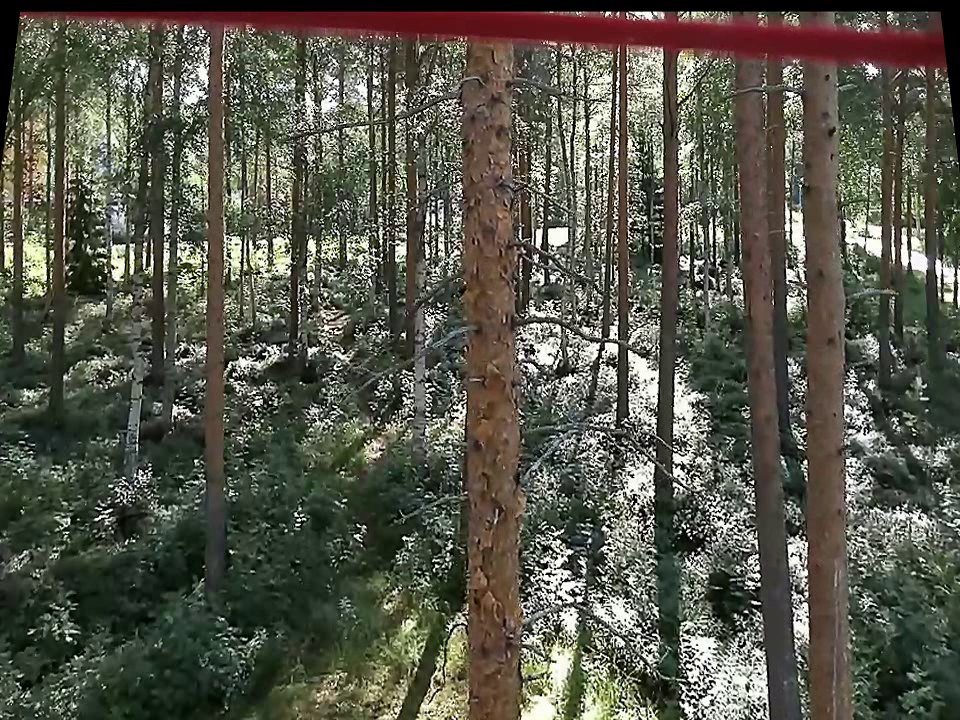branch: (521, 413, 700, 493), (520, 594, 684, 680), (291, 83, 457, 142), (352, 322, 469, 393), (516, 305, 656, 361), (508, 233, 600, 291), (515, 167, 578, 217), (717, 82, 809, 105), (842, 278, 905, 309)
trunk: (721, 43, 806, 709), (451, 48, 527, 711), (797, 47, 871, 712), (196, 52, 238, 591), (114, 109, 163, 495), (649, 52, 690, 483), (44, 35, 75, 410), (400, 139, 431, 499), (606, 73, 633, 415)
